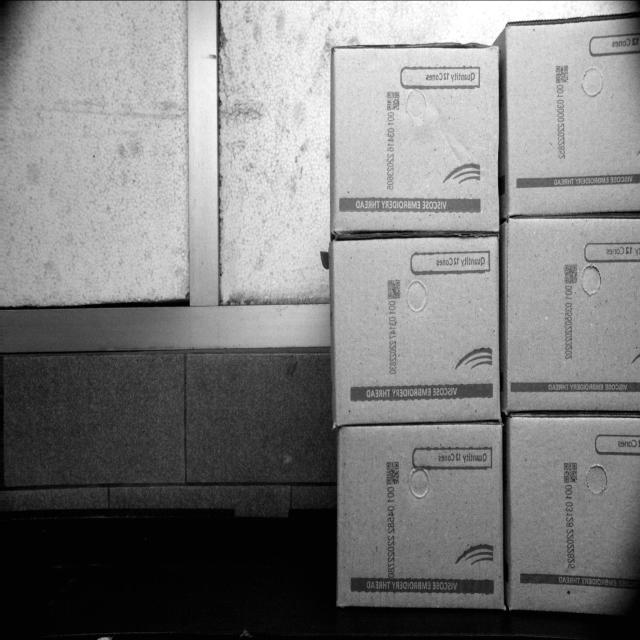cardboxes: (330, 45, 501, 231), (328, 242, 501, 422), (336, 424, 500, 603), (505, 15, 640, 216), (508, 217, 640, 412), (509, 416, 640, 608)
